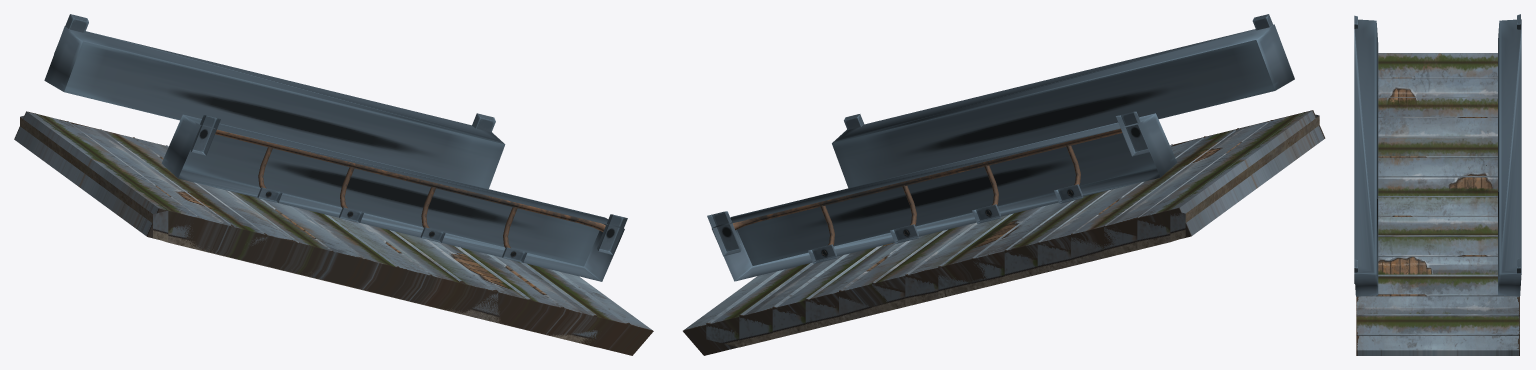
Rendered from stairs05_A.FBX.
3 renders of one model, left to right at view 1: azimuth 30°, elevation 25°; view 2: azimuth 150°, elevation 25°; view 3: azimuth 270°, elevation 25°, orthographic. The views are drawn at different scales.
Parts seen in each view (by area): view 1: stairs05_A_COL, stairs05_railR_COL, stairs05_railL_COL, stairs05_A, stairs05_railL, stairs05_railR; view 2: stairs05_A_COL, stairs05_railL_COL, stairs05_railR_COL, stairs05_A, stairs05_railR; view 3: stairs05_A_COL, stairs05_railL_COL, stairs05_railR_COL, stairs05_A.
Part boxes in pixels (box(x1,y1,x2,y2)): stairs05_A_COL: box(14, 111, 653, 355); stairs05_railR_COL: box(44, 26, 505, 188); stairs05_railL_COL: box(161, 114, 624, 281); stairs05_A: box(20, 113, 629, 346); stairs05_railL: box(190, 115, 627, 262); stairs05_railR: box(54, 14, 495, 132); stairs05_A_COL: box(683, 110, 1325, 355); stairs05_railL_COL: box(832, 24, 1294, 188); stairs05_railR_COL: box(711, 113, 1176, 281); stairs05_A: box(706, 112, 1319, 347); stairs05_railR: box(707, 111, 1149, 263); stairs05_A_COL: box(1356, 53, 1519, 355); stairs05_railL_COL: box(1354, 19, 1378, 296); stairs05_railR_COL: box(1498, 19, 1521, 296); stairs05_A: box(1356, 77, 1519, 335).
Bounding box in the file's own units: 658 × 432 × 306.
